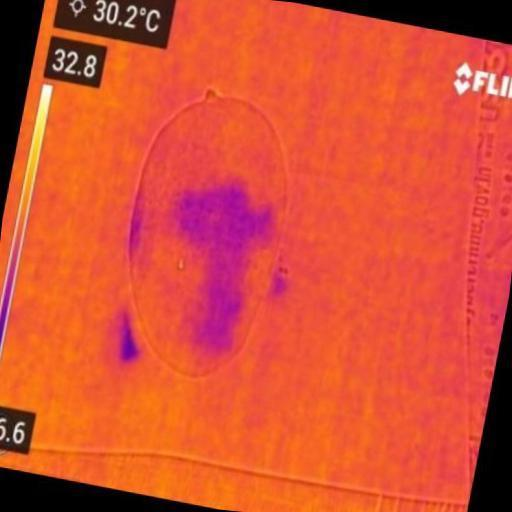alphanso: (129, 90, 286, 375)
